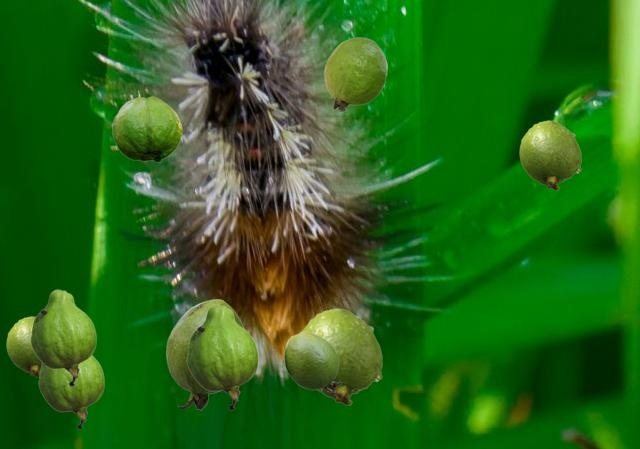guava: (166, 299, 244, 409), (302, 308, 381, 404), (186, 304, 257, 409), (30, 289, 95, 385), (38, 355, 103, 428), (324, 37, 386, 111), (112, 96, 181, 161), (519, 120, 580, 189), (284, 331, 341, 391), (6, 316, 40, 376)
